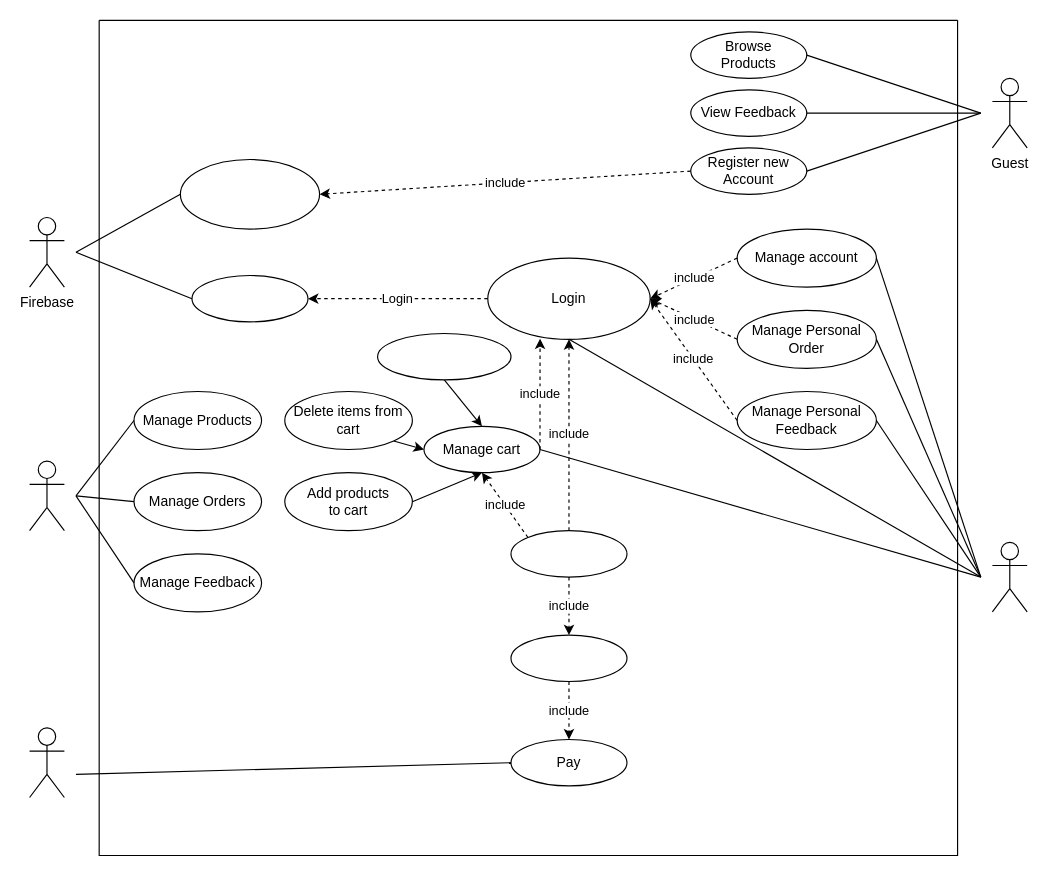
This 1060x876 diagram has some shape labels left out. The shapes that lost their labels are listed below. From the top down, each one's centre as x and y in pixels, then its label:
At (x=249, y=193): "Check register email and password".
At (x=249, y=298): "Check login".
At (x=443, y=356): "Update product quantity".
At (x=46, y=495): "Admin".
At (x=568, y=553): "Make Order".
At (x=1009, y=576): "Customer".
At (x=568, y=658): "Checkout".
At (x=46, y=762): "VNPay".
